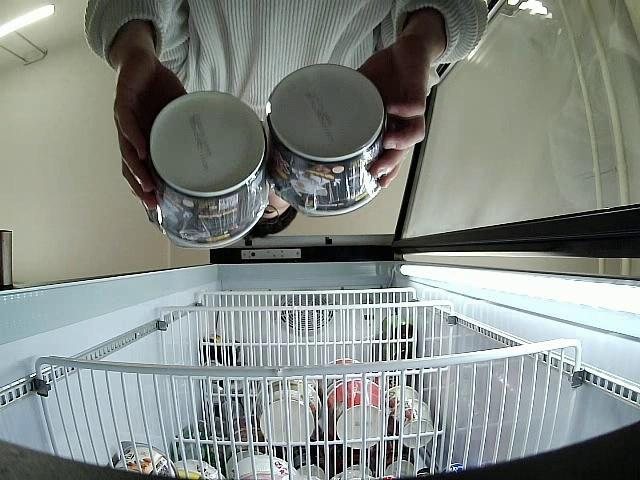07_buldak_L: (147, 89, 273, 250), (262, 63, 388, 217)
